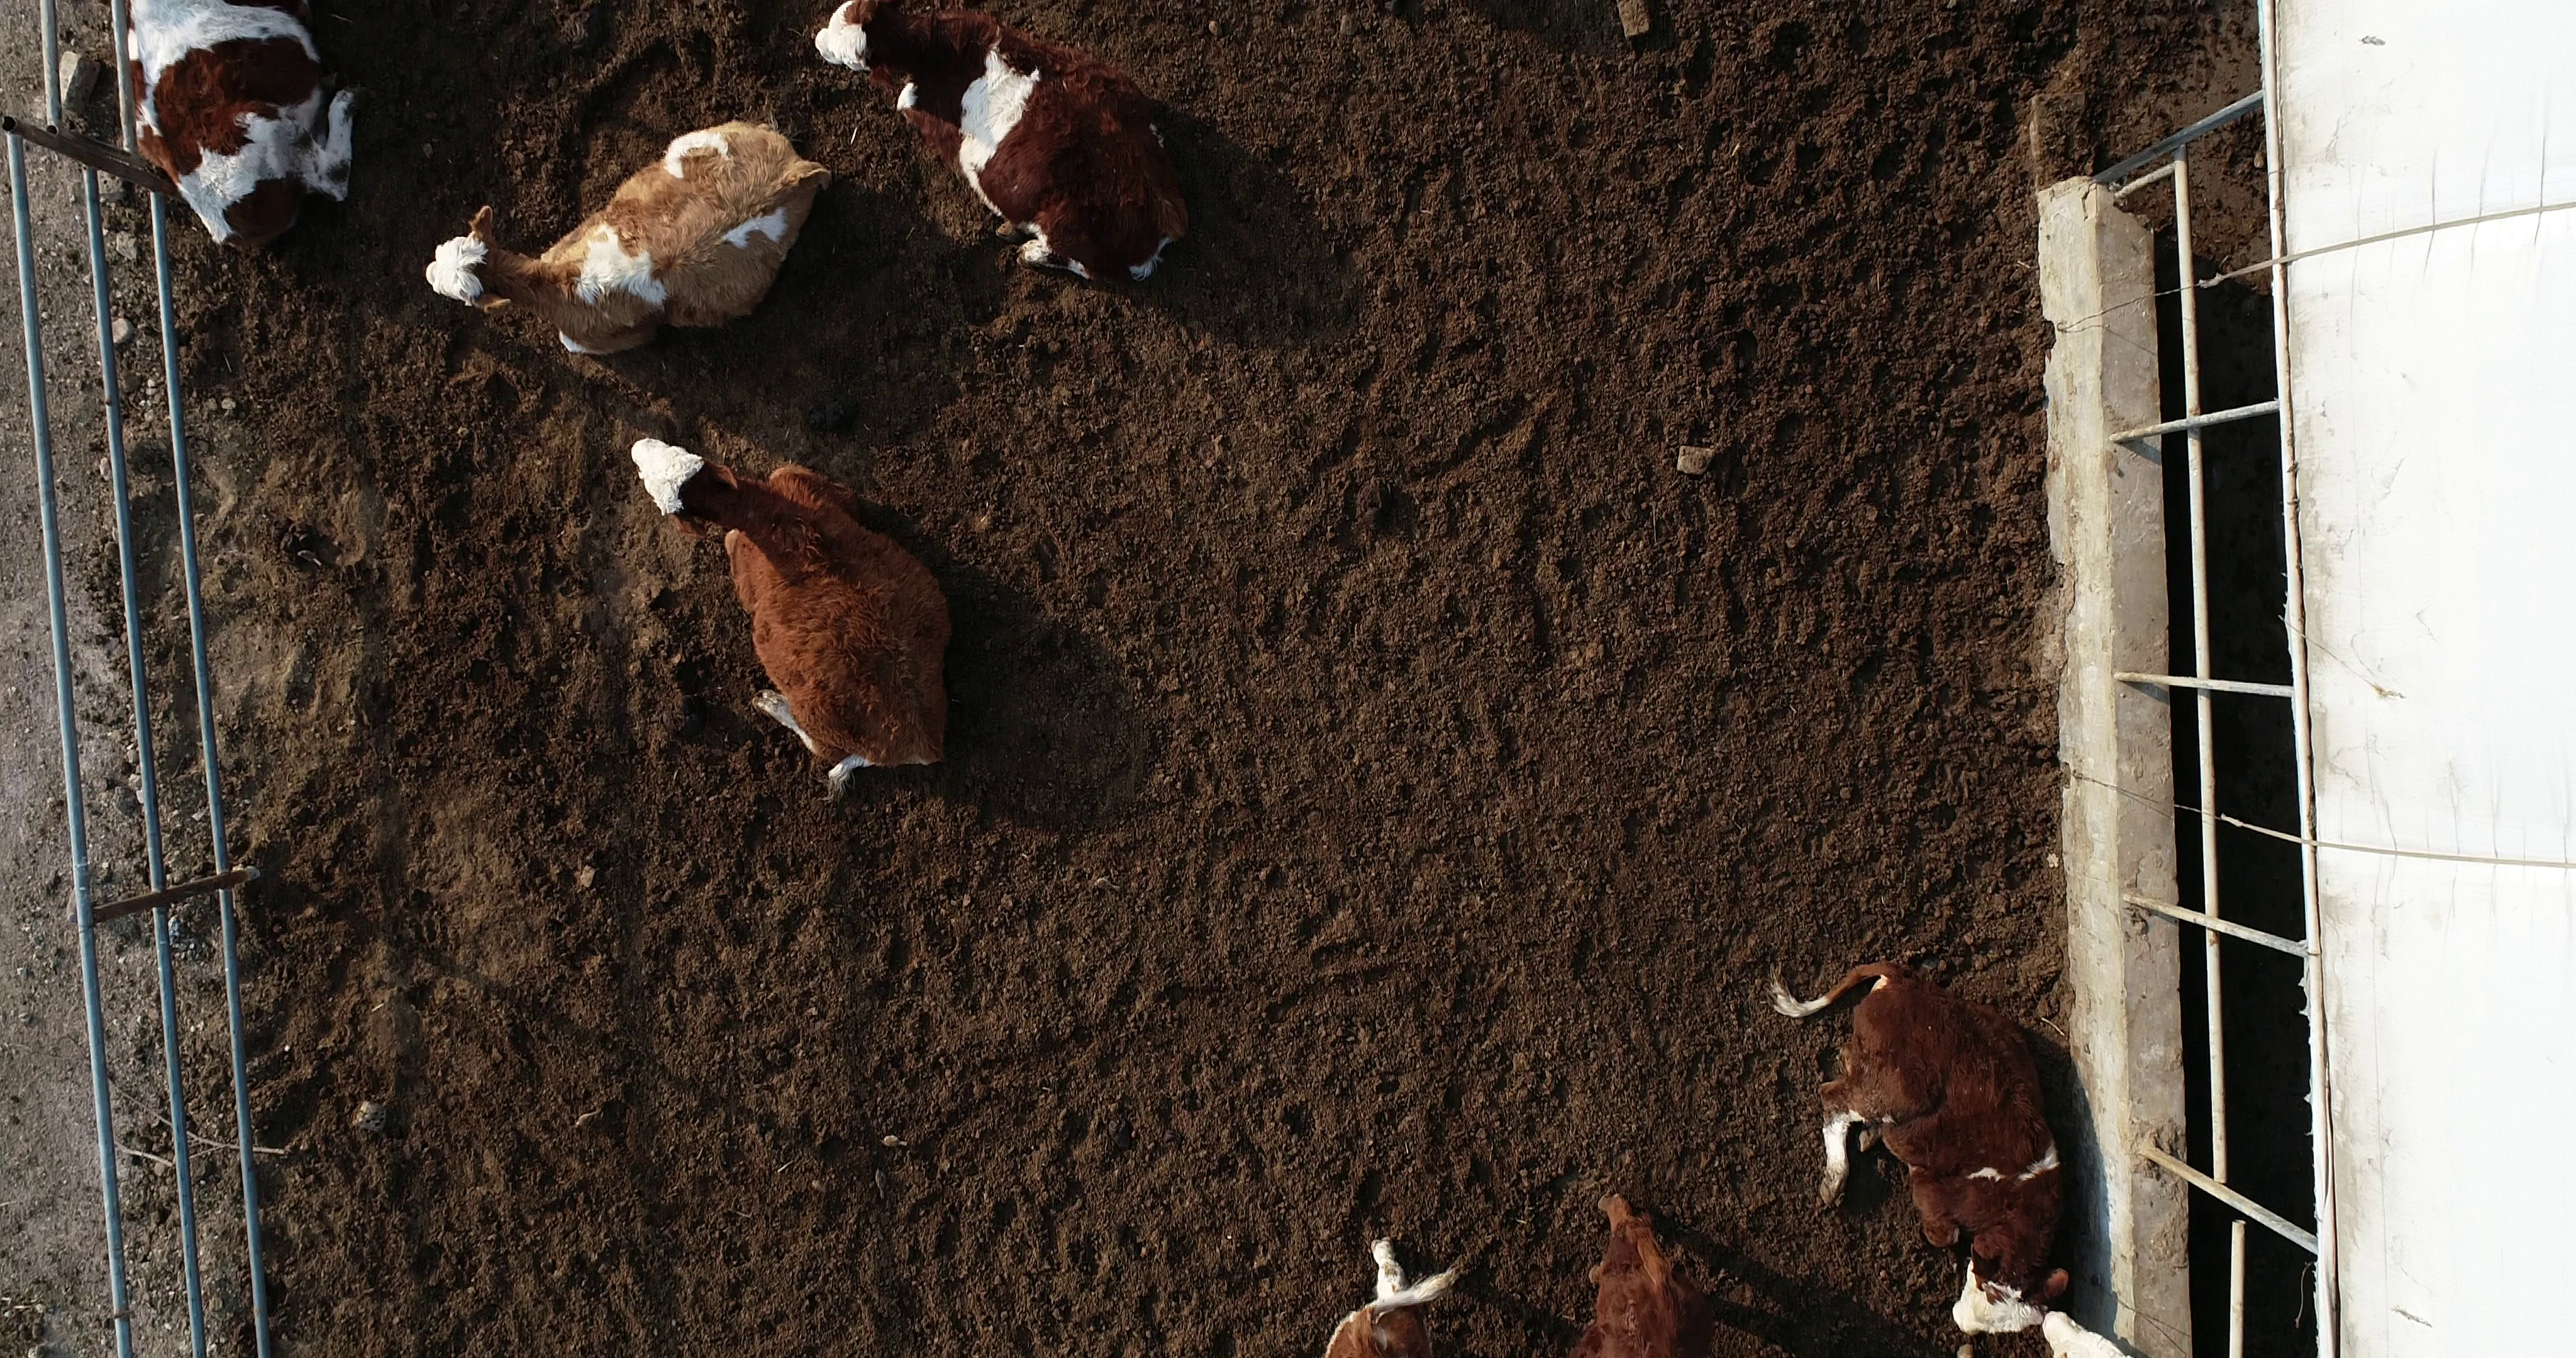cattle: (625, 431, 956, 804), (809, 3, 1198, 293), (414, 119, 833, 365)
